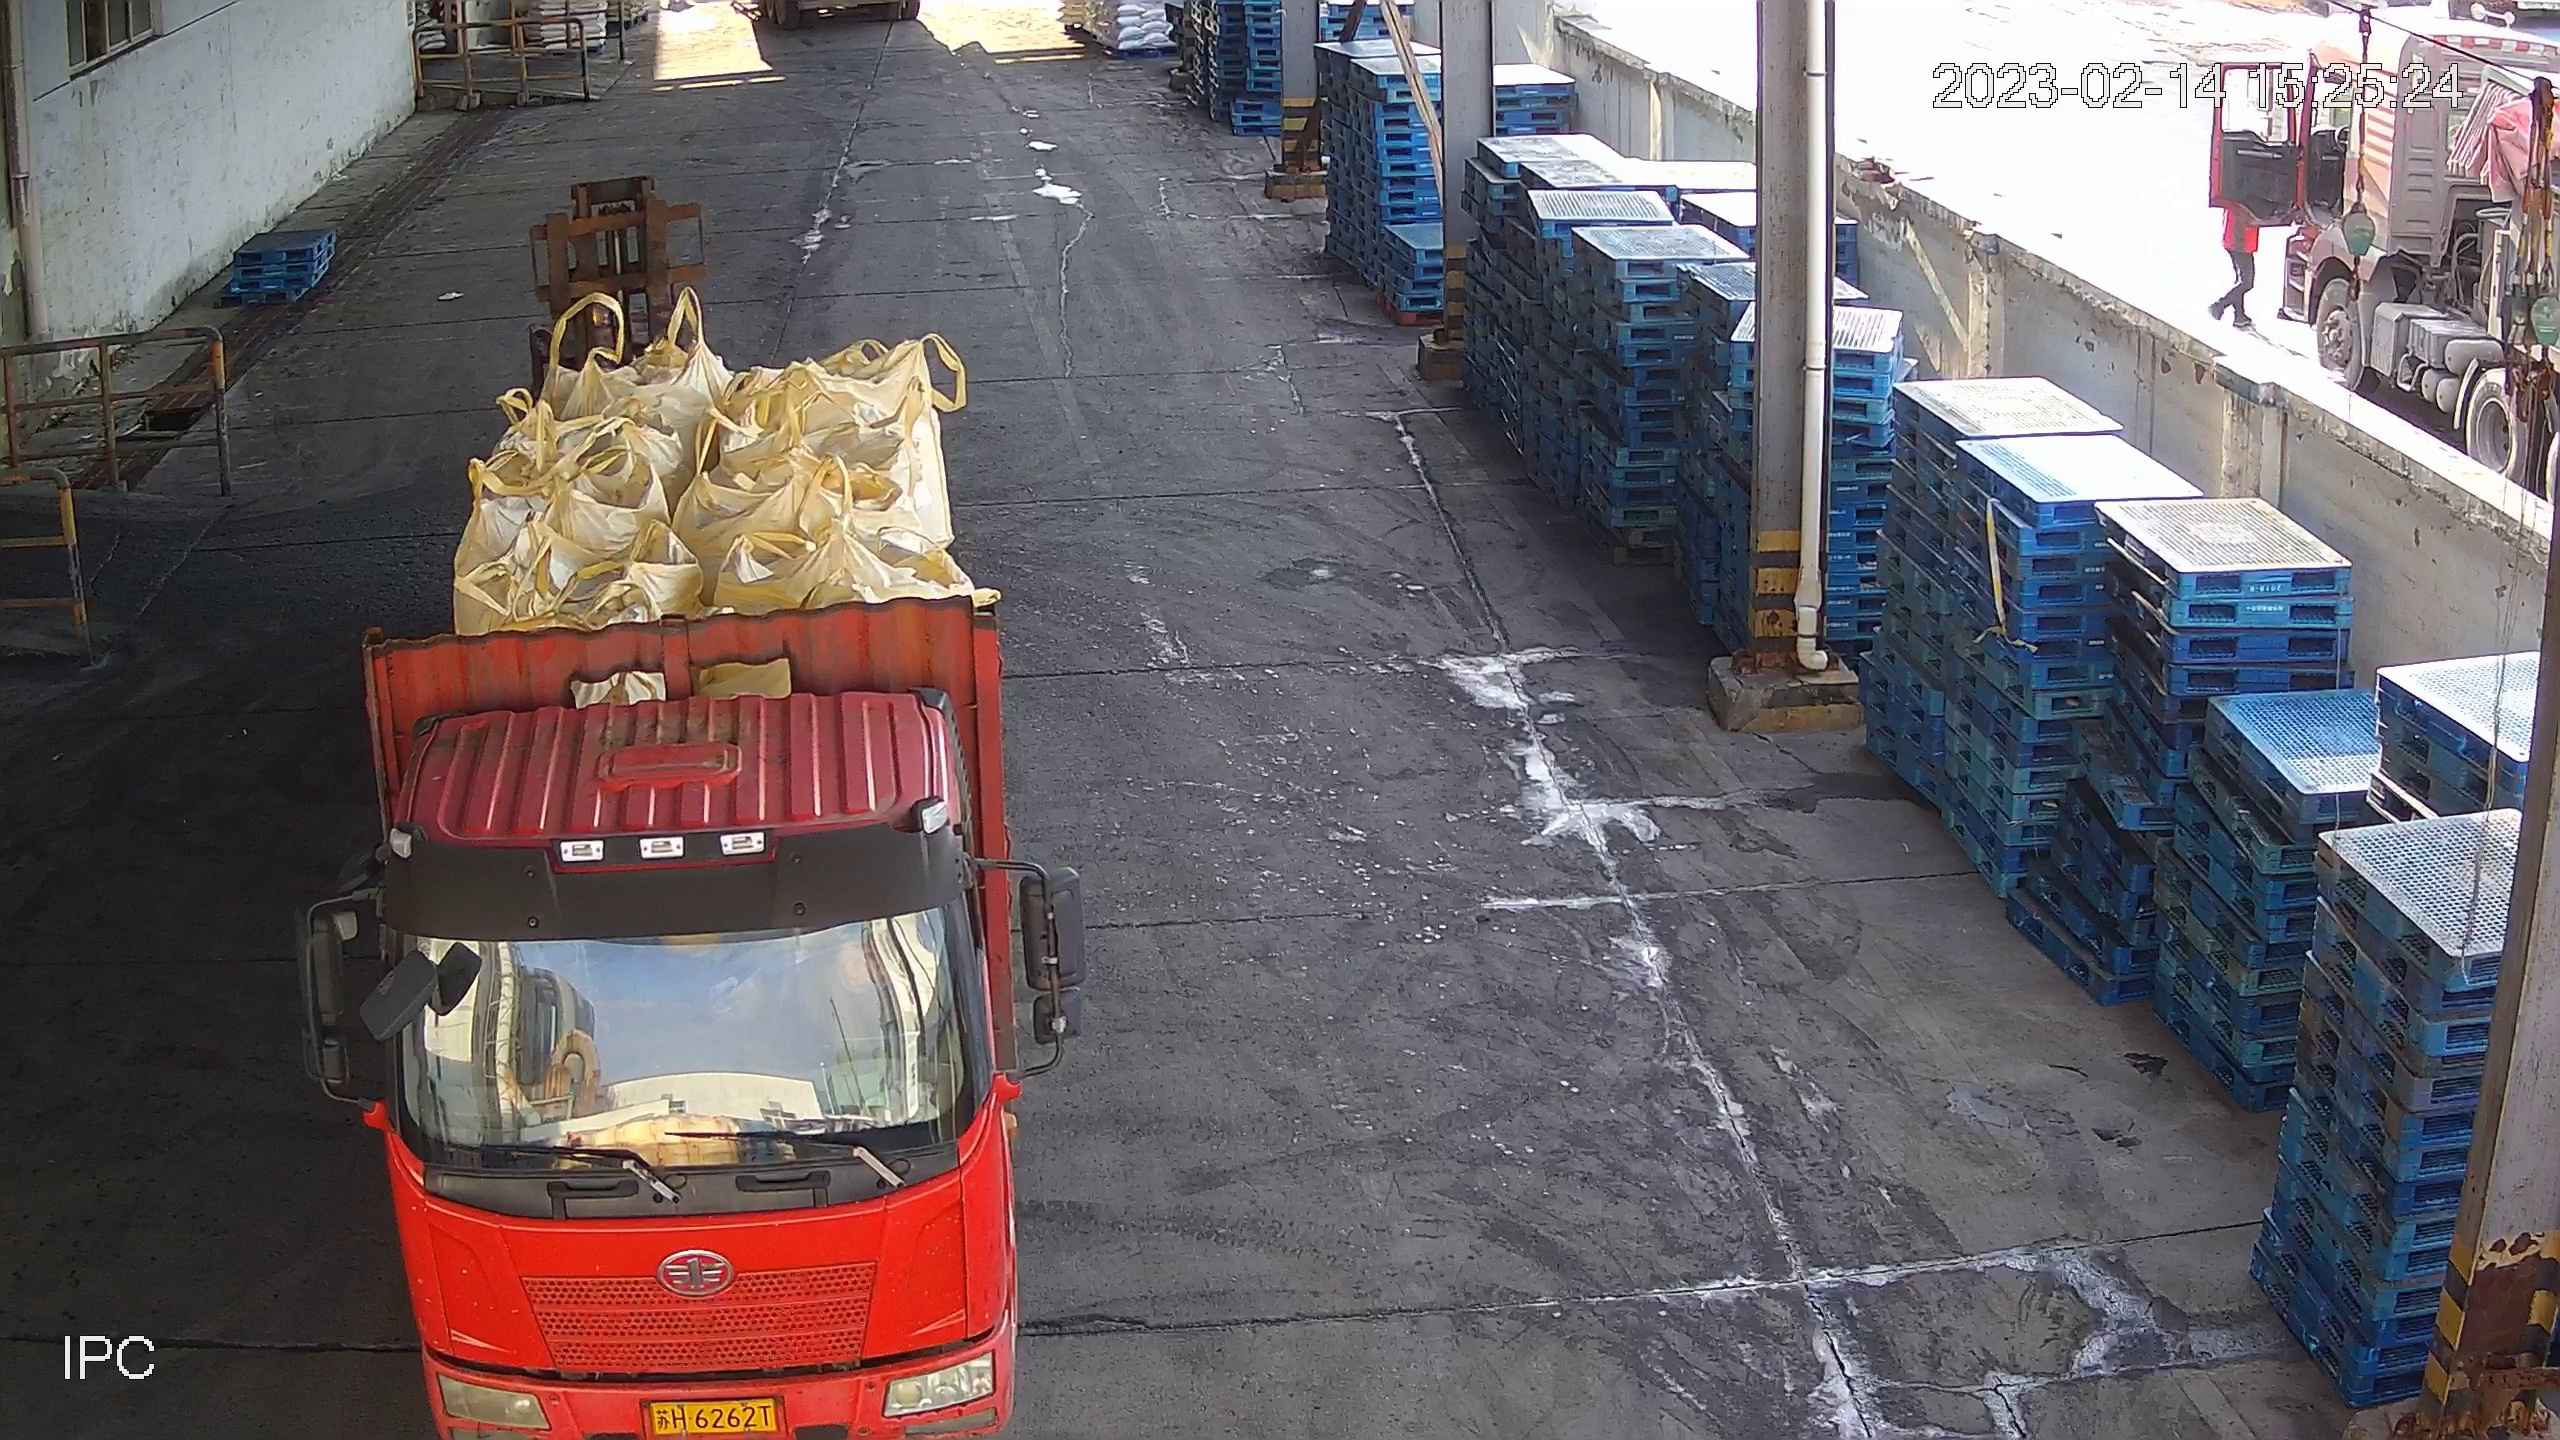truck: (297, 471, 1085, 1440)
